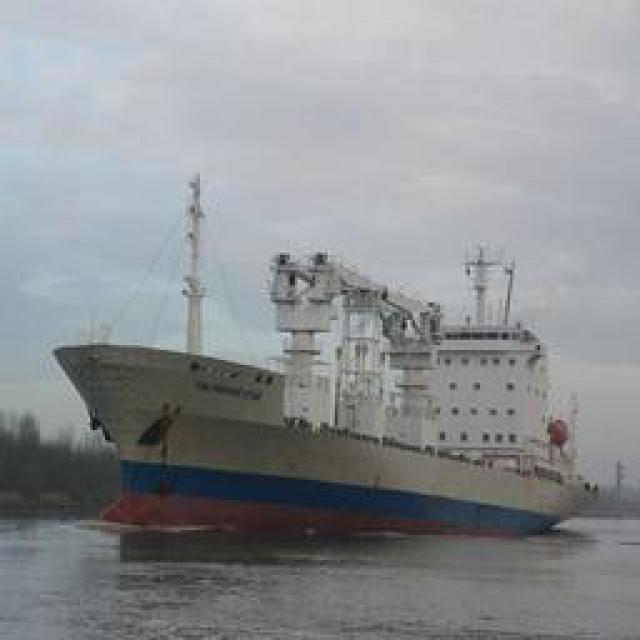Ship: (56, 249, 601, 534)
